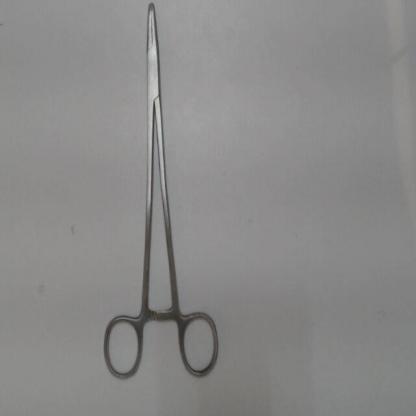8 Mayo Needle Holder: (96, 1, 224, 389)
